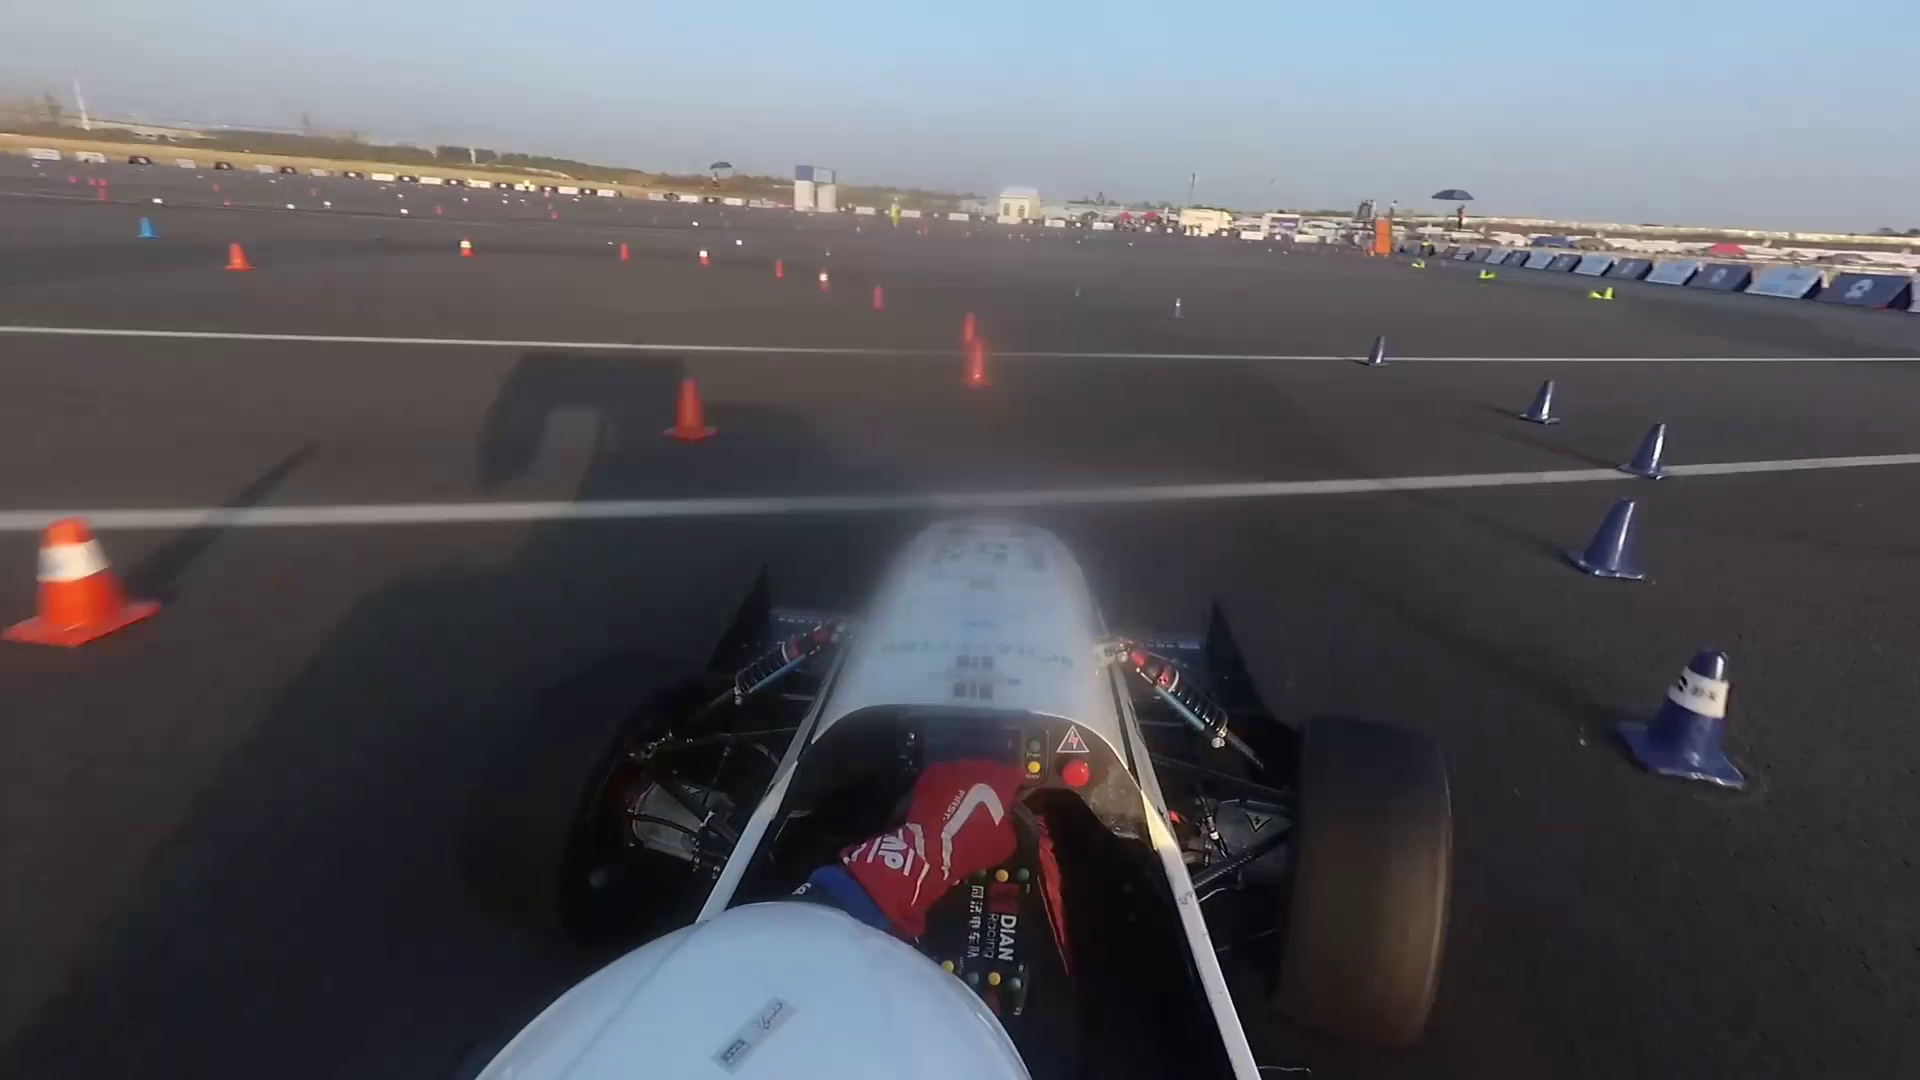blue_cone: (1610, 655, 1749, 777), (1580, 496, 1654, 596), (1631, 429, 1672, 481), (1528, 386, 1557, 429), (1361, 343, 1389, 375), (1168, 294, 1188, 320)
red_cone: (12, 516, 132, 659), (665, 380, 708, 446), (964, 344, 988, 385), (224, 241, 255, 272), (957, 315, 978, 349), (869, 284, 885, 309), (818, 272, 833, 295), (771, 258, 789, 280), (458, 240, 476, 258), (616, 243, 630, 262), (700, 251, 713, 269)
